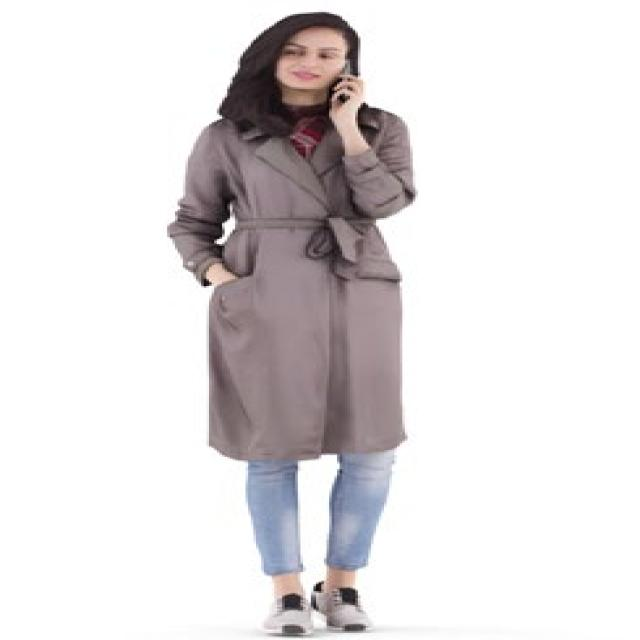standing: (161, 11, 421, 637)
